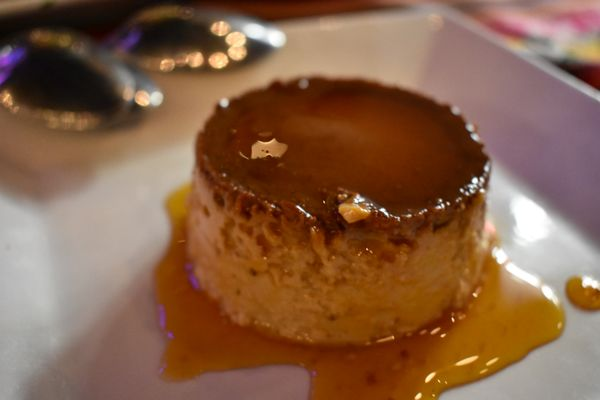sushi: (176, 74, 498, 346)
